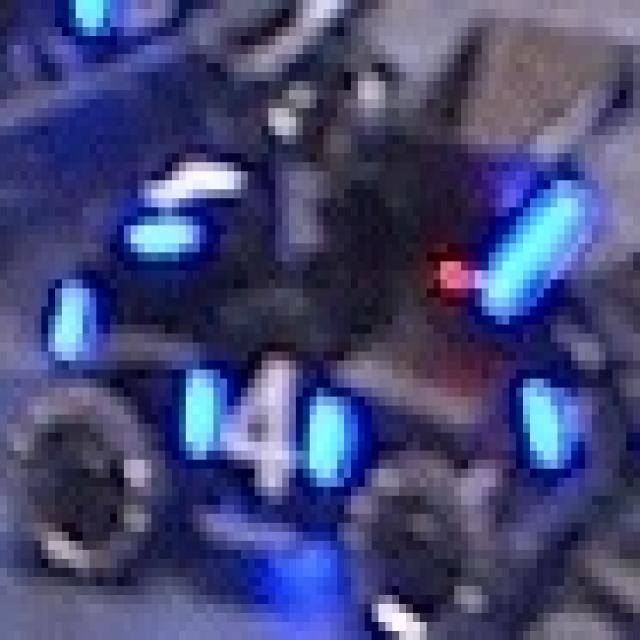B4: (179, 342, 351, 496)
